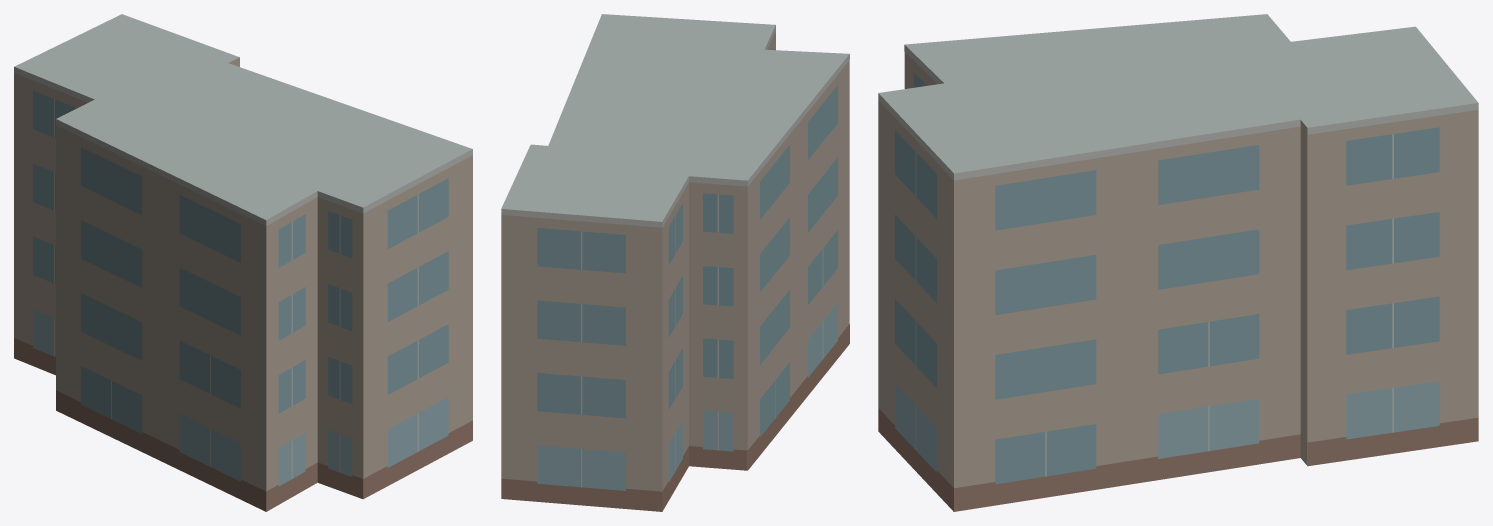
File: survey-upis-32965066.glb
3 renders of one model, left to right at view 1: azimuth 30°, elevation 25°; view 2: azimuth 150°, elevation 25°; view 3: azimuth 270°, elevation 25°, orthographic. The views are drawn at different scales.
Visible parts, largest first — view 1: survey-upis-32965066.tmp; view 2: survey-upis-32965066.tmp; view 3: survey-upis-32965066.tmp.
Boxes of the visible parts, x1,y1,x2,y2 form: survey-upis-32965066.tmp: (14,14,472,511); survey-upis-32965066.tmp: (501,14,849,511); survey-upis-32965066.tmp: (878,14,1478,511).
Bounding box in the file's own units: 12.04 × 11.9 × 19.14.
